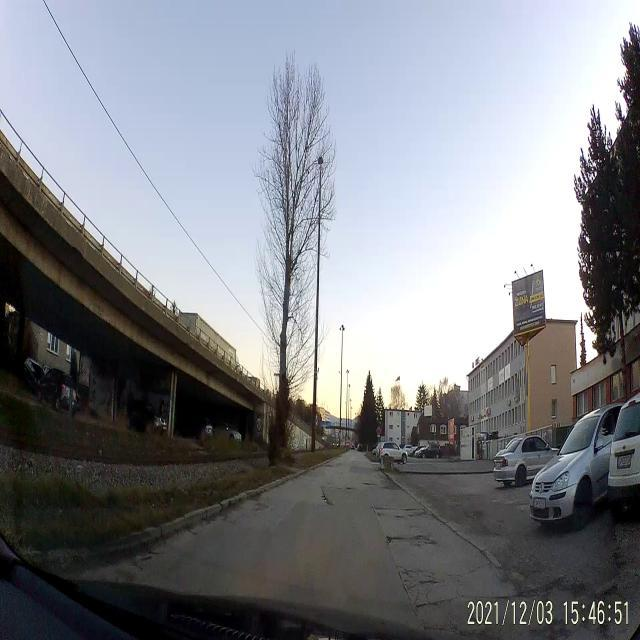Pothole: (384, 530, 406, 552), (412, 528, 435, 548)
